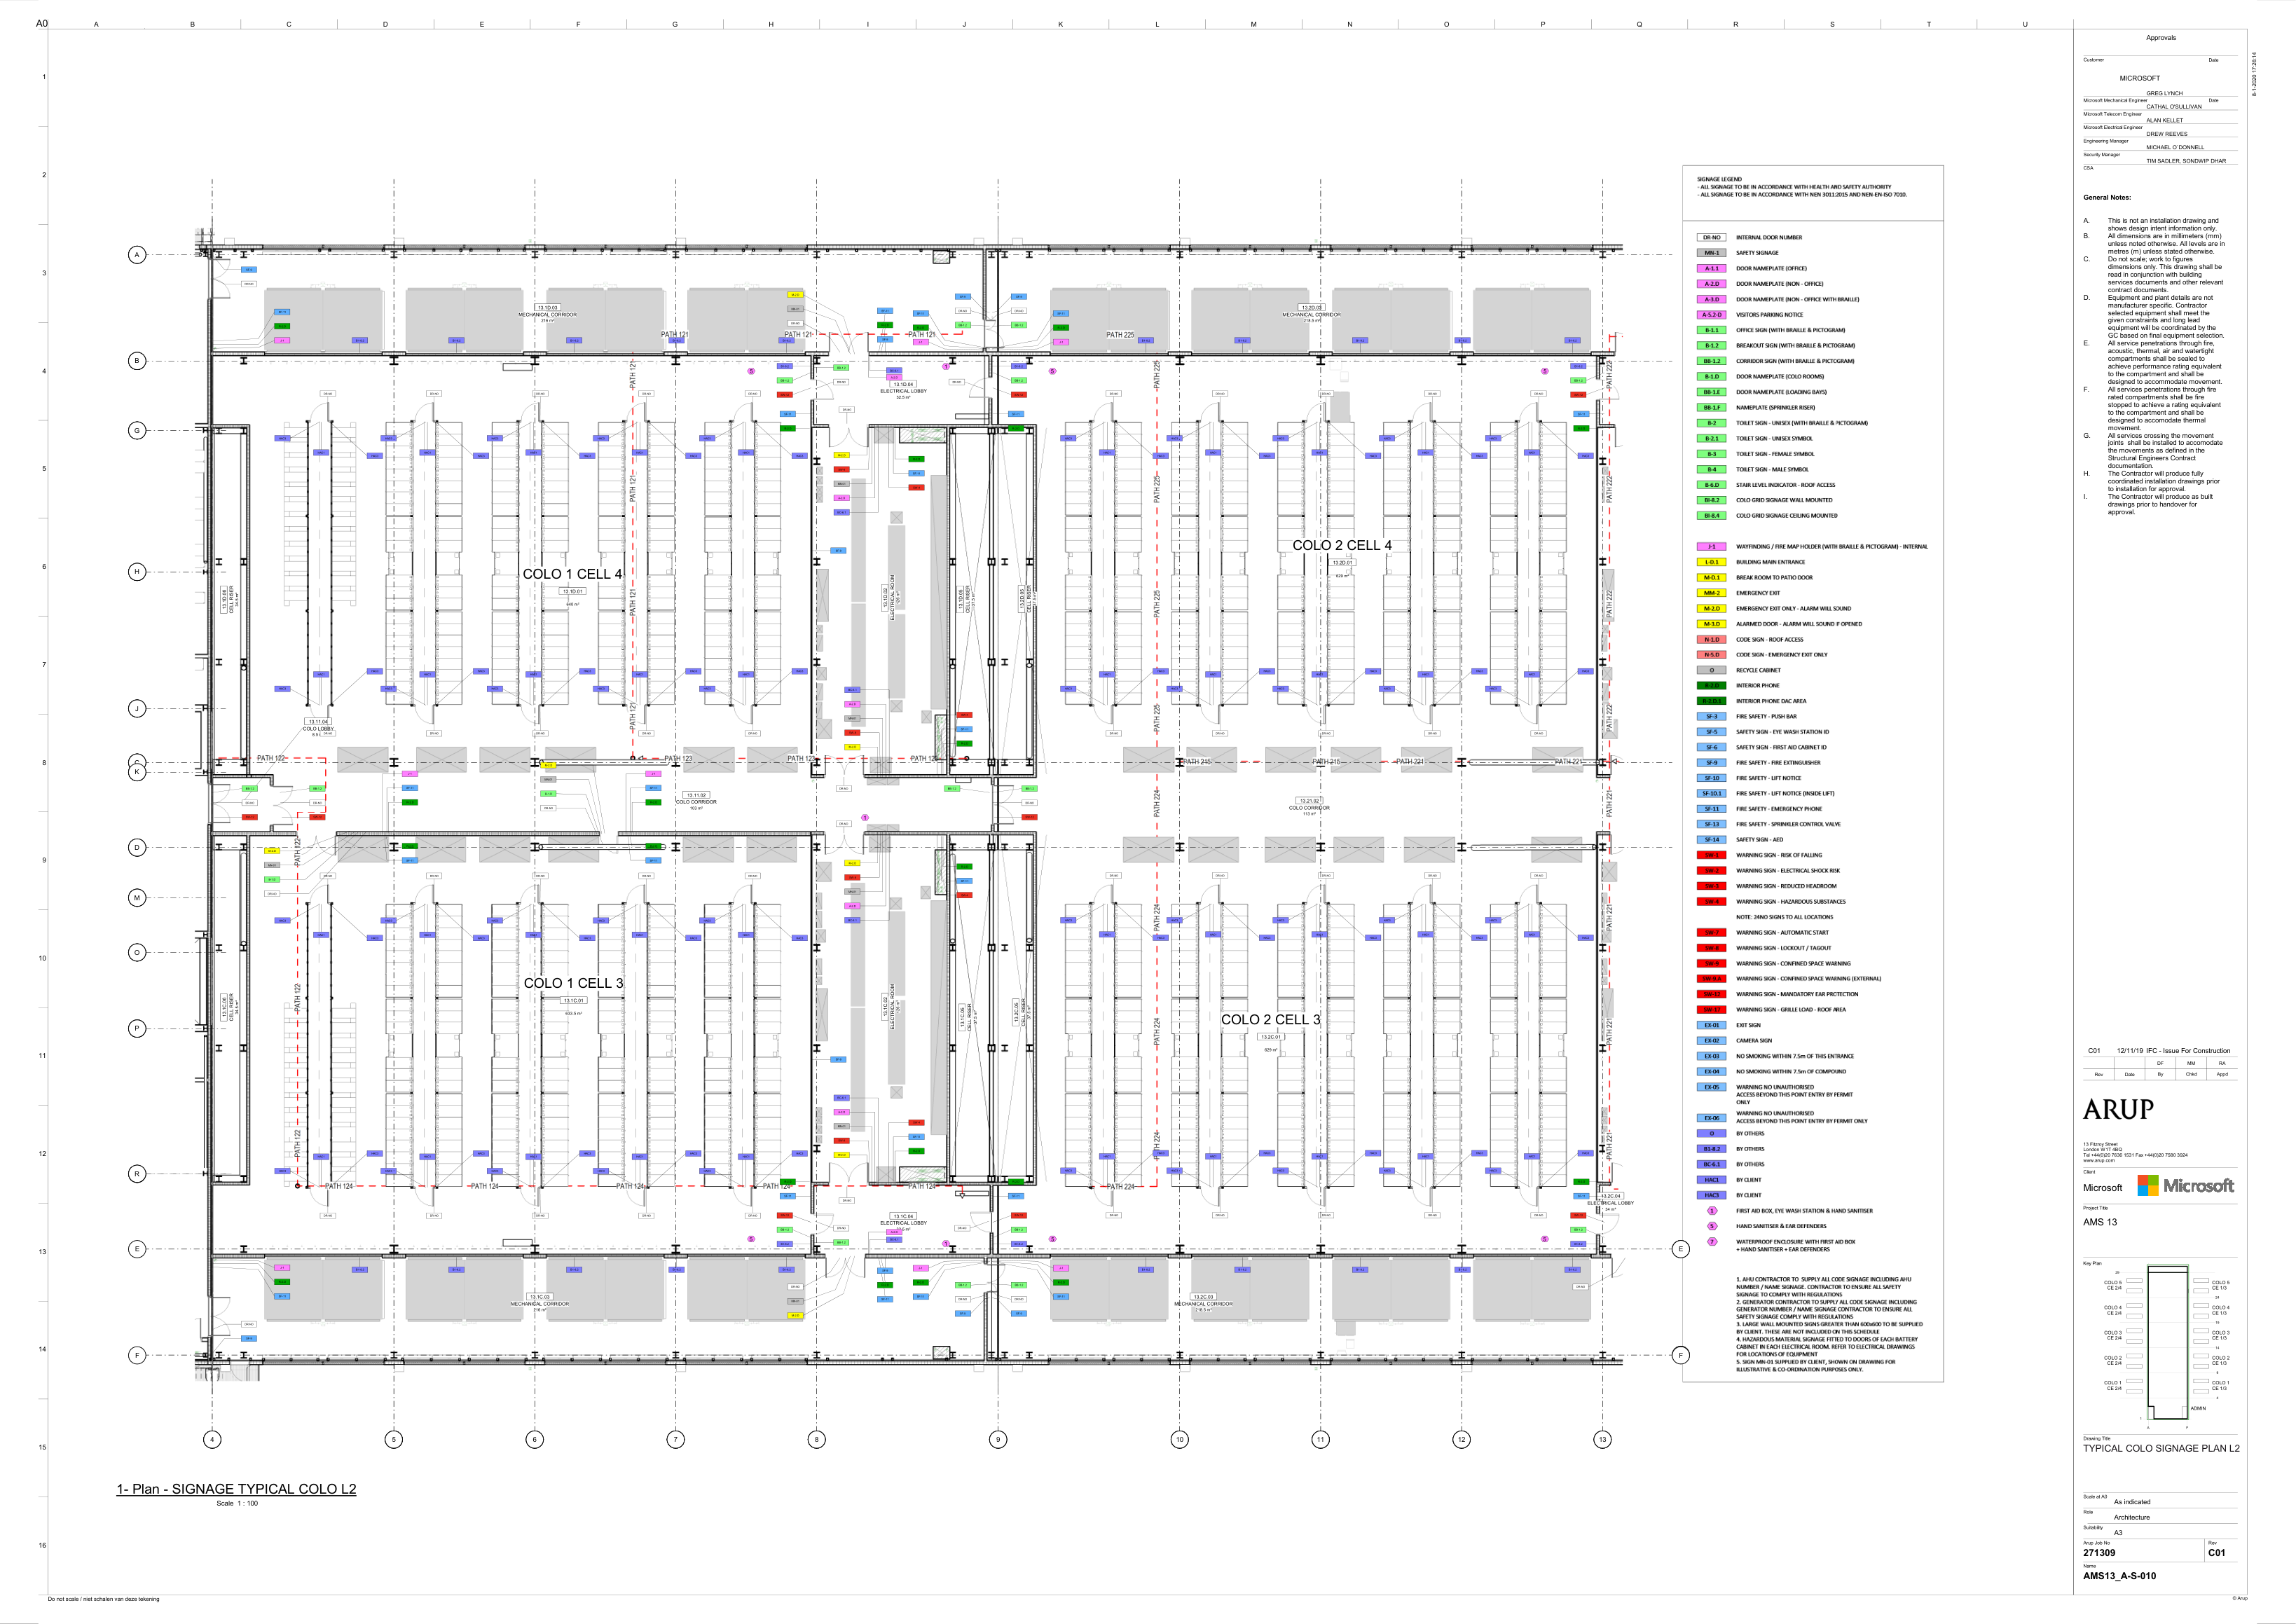Legend: (1683, 165, 1944, 1382)
